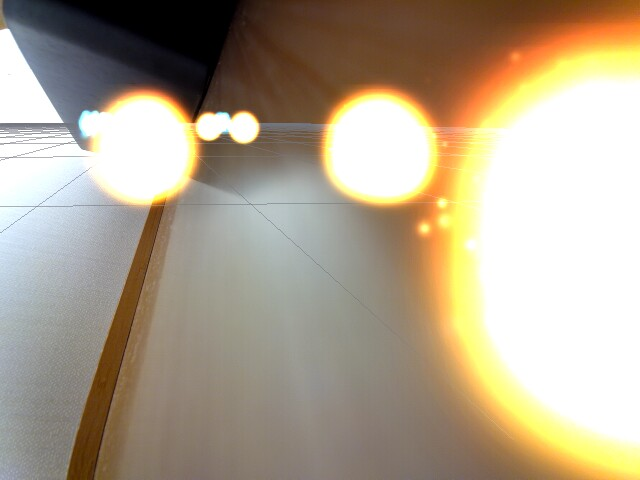firebig: (454, 28, 638, 476)
